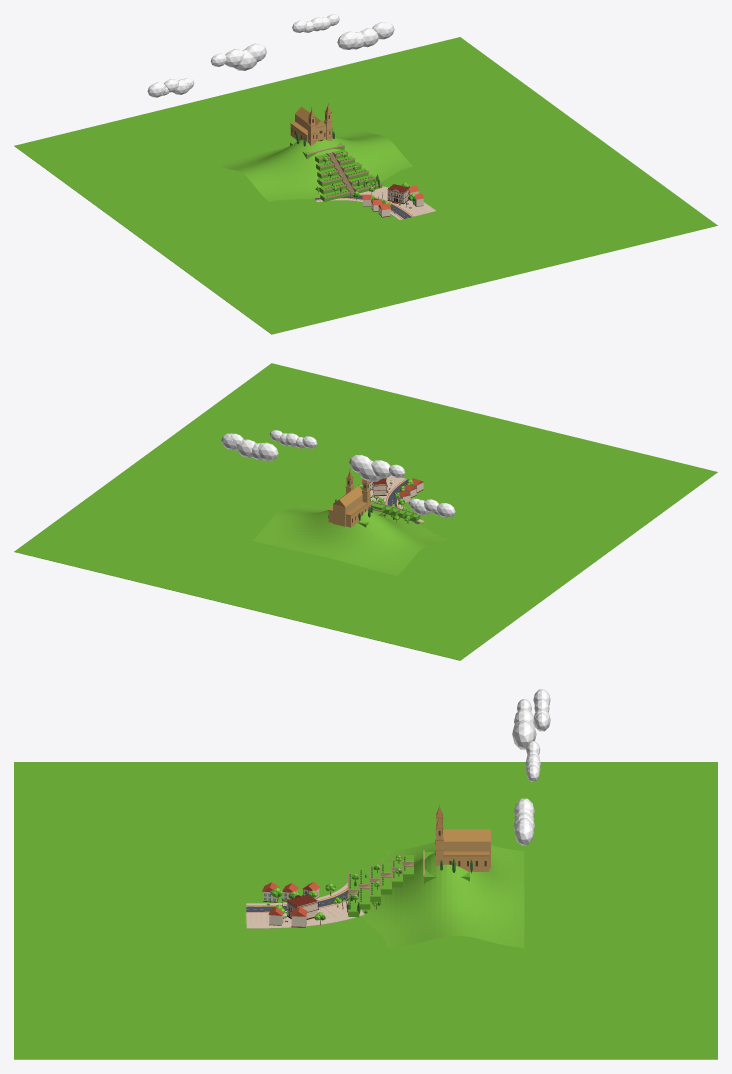
File: Selection Street.glb
3 views of the same model, one above another, from view 1: azimuth 30°, elevation 25°; view 2: azimuth 150°, elevation 25°; view 3: azimuth 270°, elevation 25° (orthographic). The views are drawn at different scales.
Visible parts, largest first — view 1: street_grass, street_hill, street_cloud, street_church, street_paver, street_stone; view 2: street_grass, street_hill, street_cloud, street_church, street_church_trim; view 3: street_grass, street_hill, street_cloud, street_paver, street_church, street_church_trim.
Part boxes in pixels (x1,y1,x2,y2): street_grass: [14, 37, 717, 334]; street_hill: [219, 129, 413, 201]; street_cloud: [147, 14, 394, 97]; street_church: [290, 113, 332, 145]; street_paver: [316, 186, 435, 220]; street_stone: [306, 144, 382, 198]; street_grass: [14, 363, 717, 660]; street_hill: [252, 504, 447, 575]; street_cloud: [221, 430, 455, 517]; street_church: [328, 479, 370, 527]; street_church_trim: [328, 471, 370, 515]; street_grass: [14, 762, 717, 1059]; street_hill: [360, 842, 524, 947]; street_cloud: [512, 689, 550, 845]; street_paver: [246, 883, 364, 928]; street_church: [435, 818, 490, 871]; street_church_trim: [435, 806, 490, 861].
Bounding box in the file's own units: 400 × 104 × 400.
